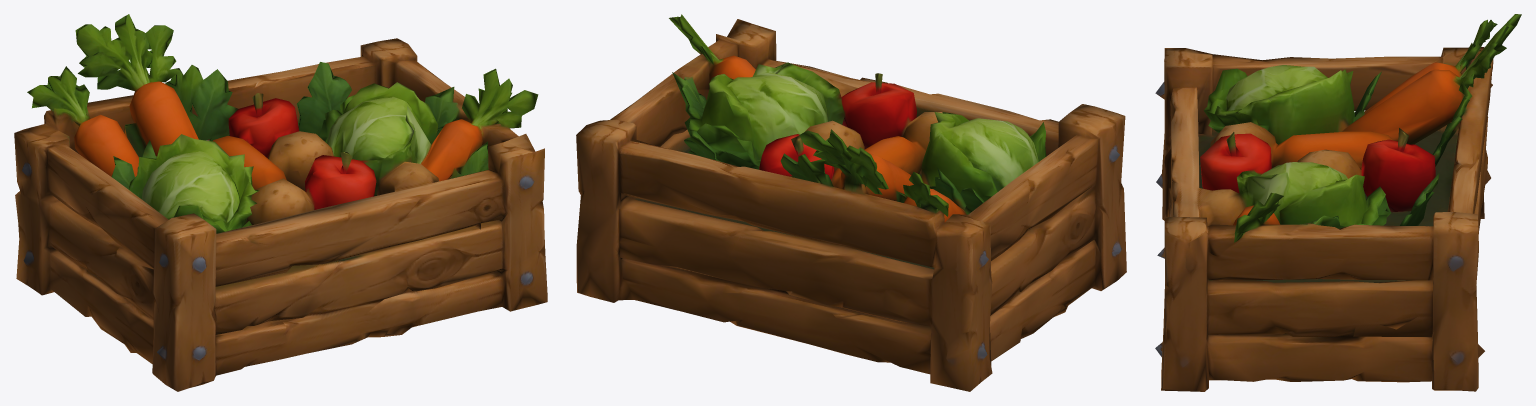
The model's file is food_resource_crate.fbx.
3 renders of one model, left to right at view 1: azimuth 30°, elevation 25°; view 2: azimuth 150°, elevation 25°; view 3: azimuth 270°, elevation 25°, orthographic. The views are drawn at different scales.
Visible parts, largest first — view 1: tripo_node_d07db1e5; view 2: tripo_node_d07db1e5; view 3: tripo_node_d07db1e5.
Boxes of the visible parts, left/top/right/bottom form: tripo_node_d07db1e5: left=14, top=14, right=547, bottom=391; tripo_node_d07db1e5: left=576, top=14, right=1126, bottom=391; tripo_node_d07db1e5: left=1155, top=14, right=1521, bottom=391.
Bounding box in the file's own units: 100 × 74.68 × 54.27.
Materials: 1 (1 with a texture image).
